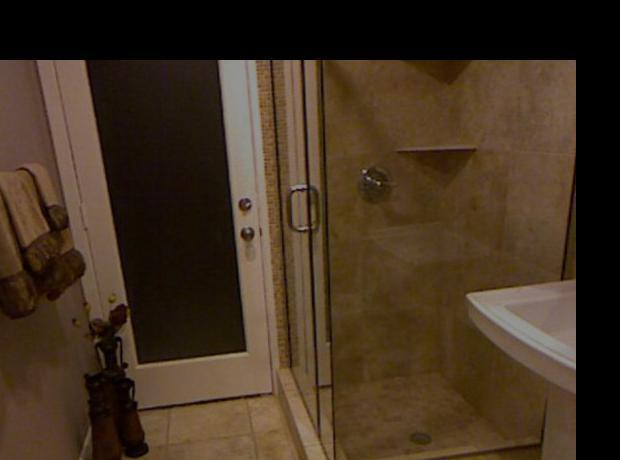Ducha: (271, 70, 574, 460)
Lavamanos: (460, 269, 574, 460)
Otro Obstaculo: (71, 310, 149, 460)
